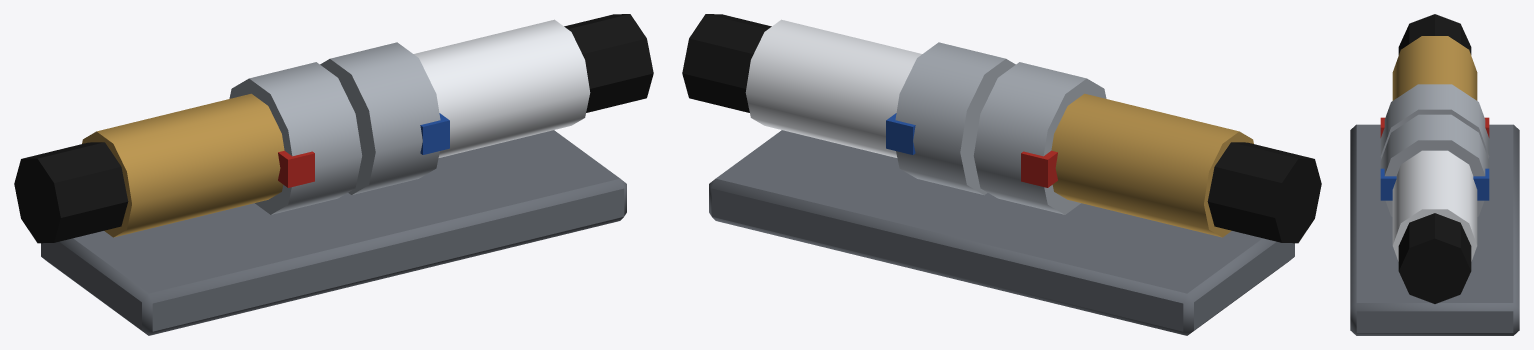
Rendered from valve_quick_couplings.glb.
3 renders of one model, left to right at view 1: azimuth 30°, elevation 25°; view 2: azimuth 150°, elevation 25°; view 3: azimuth 270°, elevation 25°, orthographic. The views are drawn at different scales.
Parts seen in each view (by area): view 1: valve_quick_couplings; view 2: valve_quick_couplings; view 3: valve_quick_couplings.
Boxes of the visible parts, x1,y1,x2,y2 form: valve_quick_couplings: (14, 14, 653, 335); valve_quick_couplings: (682, 14, 1321, 335); valve_quick_couplings: (1350, 14, 1519, 335).
Size of the model in its own units: 0.44 by 0.1228 by 0.14.
